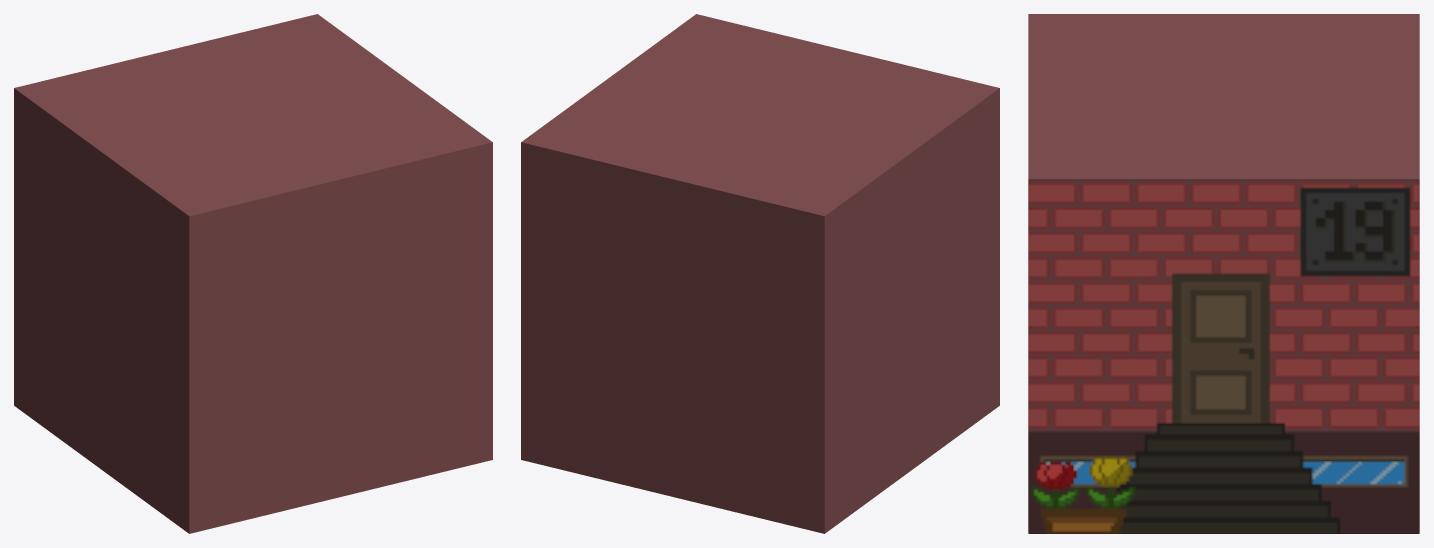
Rendered from BrickBuildingRed128x128_Ground01.fbx.
The picture shows the model from 3 angles, left to right: view 1: azimuth 30°, elevation 25°; view 2: azimuth 150°, elevation 25°; view 3: azimuth 270°, elevation 25°; orthographic projection. The views are drawn at different scales.
Visible parts, largest first — view 1: Ground01; view 2: Ground01; view 3: Ground01.
Part boxes in pixels (bbox=[...]): Ground01: bbox=[14, 14, 492, 533]; Ground01: bbox=[521, 14, 999, 533]; Ground01: bbox=[1028, 14, 1419, 533].
Bounding box in the file's own units: 100 × 100 × 100.
1 material, 1 textured.
